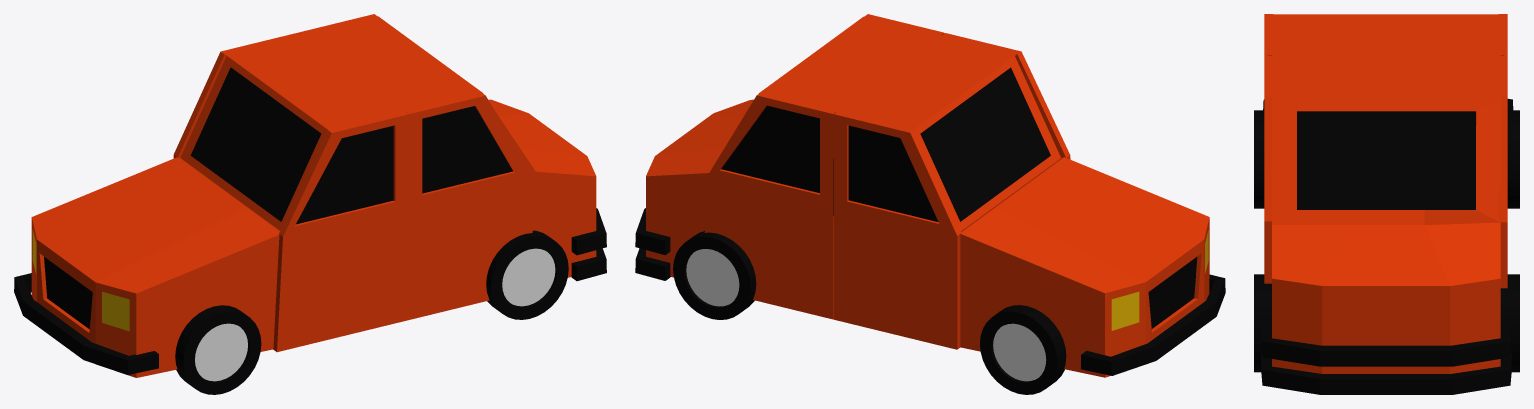
The model's file is car.glb.
3 renders of one model, left to right at view 1: azimuth 30°, elevation 25°; view 2: azimuth 150°, elevation 25°; view 3: azimuth 270°, elevation 25°, orthographic. The views are drawn at different scales.
Parts seen in each view (by area): view 1: Cube, Cube.002, Cube.003, Cylinder.003, Cylinder.001, Cube.007, Cube.004, Cube.005, Cube.006; view 2: Cube, Cube.004, Cube.001, Cylinder.002, Cylinder, Cube.007, Cube.002, Cube.005, Cube.006; view 3: Cube, Cube.005, Cube.006, Cube.001, Cube.003, Cylinder, Cylinder.002, Cylinder.001, Cylinder.003, Cube.002, Cube.004.
Part boxes in pixels (bbox=[...]): Cube: bbox=[31, 16, 596, 377]; Cube.002: bbox=[273, 111, 408, 352]; Cube.003: bbox=[405, 92, 532, 319]; Cylinder.003: bbox=[175, 305, 261, 394]; Cylinder.001: bbox=[486, 230, 568, 319]; Cube.007: bbox=[14, 273, 158, 374]; Cube.004: bbox=[173, 33, 300, 203]; Cube.005: bbox=[571, 208, 606, 255]; Cube.006: bbox=[571, 248, 606, 281]; Cube: bbox=[646, 16, 1209, 377]; Cube.004: bbox=[833, 111, 960, 349]; Cube.001: bbox=[704, 92, 836, 319]; Cylinder.002: bbox=[980, 305, 1066, 394]; Cylinder: bbox=[673, 231, 756, 319]; Cube.007: bbox=[1081, 274, 1225, 375]; Cube.002: bbox=[941, 33, 1070, 159]; Cube.005: bbox=[635, 208, 670, 255]; Cube.006: bbox=[635, 248, 670, 280]; Cube: bbox=[1272, 14, 1500, 373]; Cube.005: bbox=[1261, 325, 1511, 366]; Cube.006: bbox=[1261, 353, 1511, 394]; Cube.001: bbox=[1498, 55, 1507, 288]; Cube.003: bbox=[1264, 55, 1273, 283]; Cylinder: bbox=[1500, 274, 1519, 372]; Cylinder.002: bbox=[1507, 110, 1519, 208]; Cylinder.001: bbox=[1254, 274, 1271, 372]; Cylinder.003: bbox=[1254, 110, 1264, 208]; Cube.002: bbox=[1264, 14, 1273, 55]; Cube.004: bbox=[1498, 14, 1507, 55].
Size of the model in its own units: 2.98 by 1.27 by 1.22.
